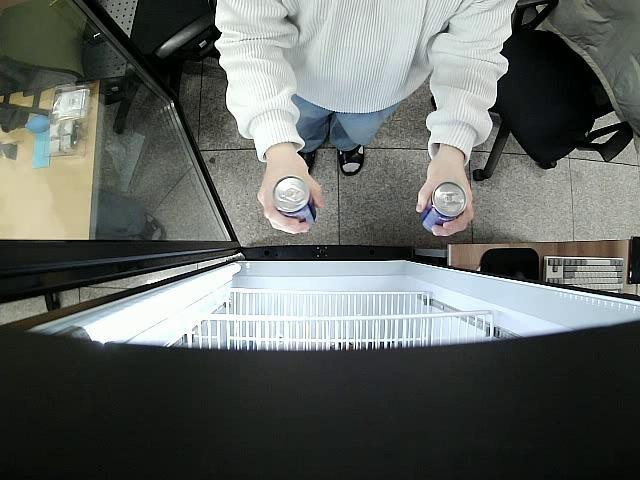16_hot6: (273, 176, 318, 227), (424, 182, 467, 235)
